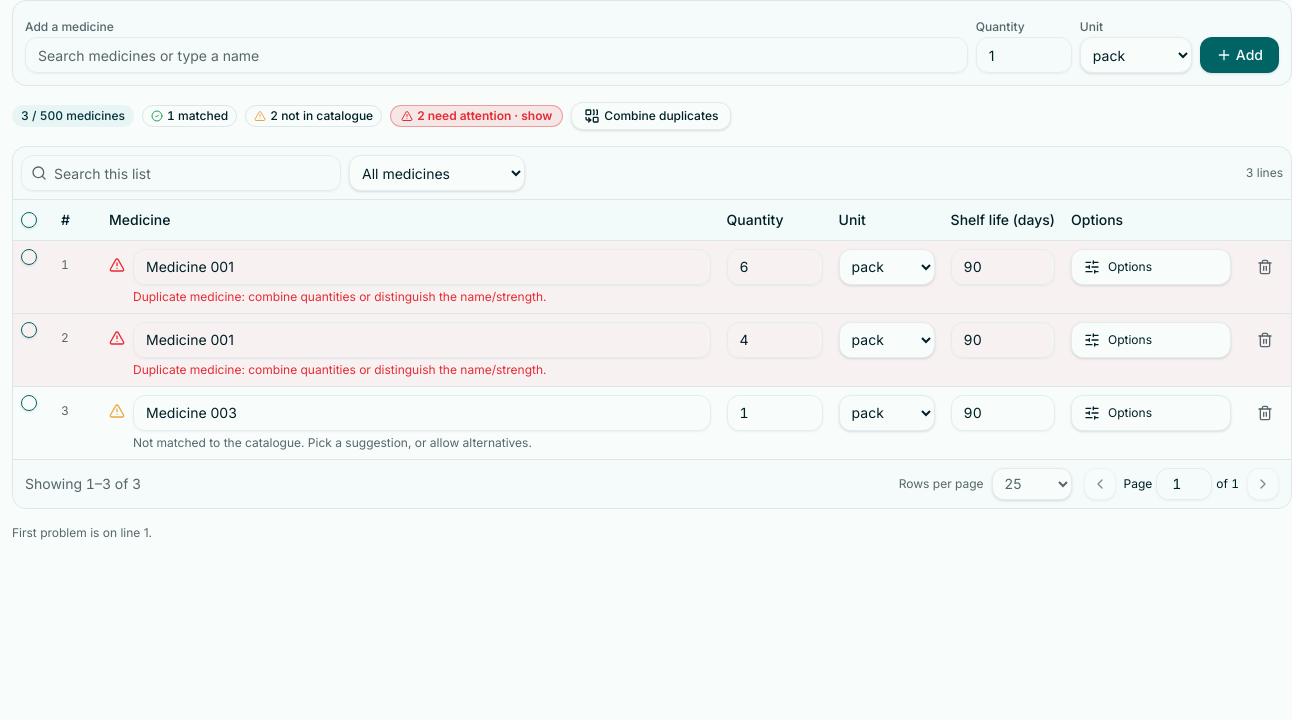
Test: flags duplicates, offers to combine them, and combines quantities
Click the button "Combine duplicates".
click(651, 116)  # box [571,102,732,130]
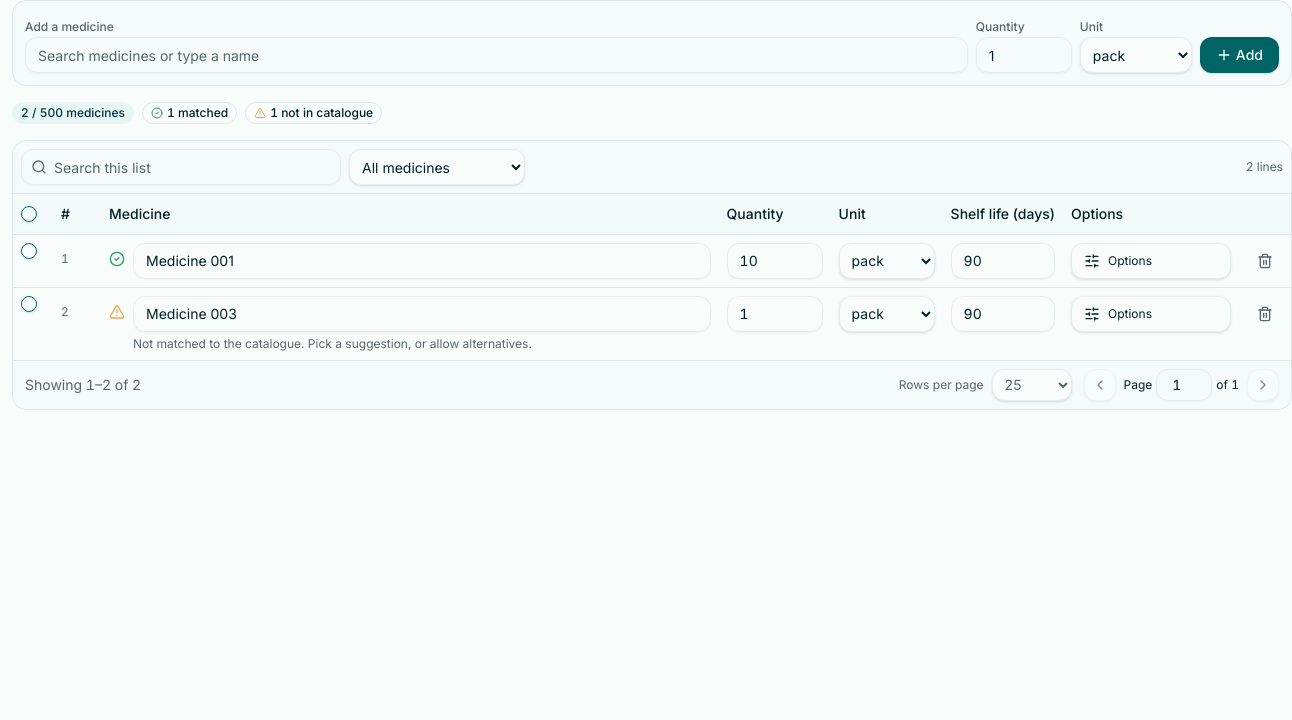
Result: the text "Duplicate medicine" is gone
